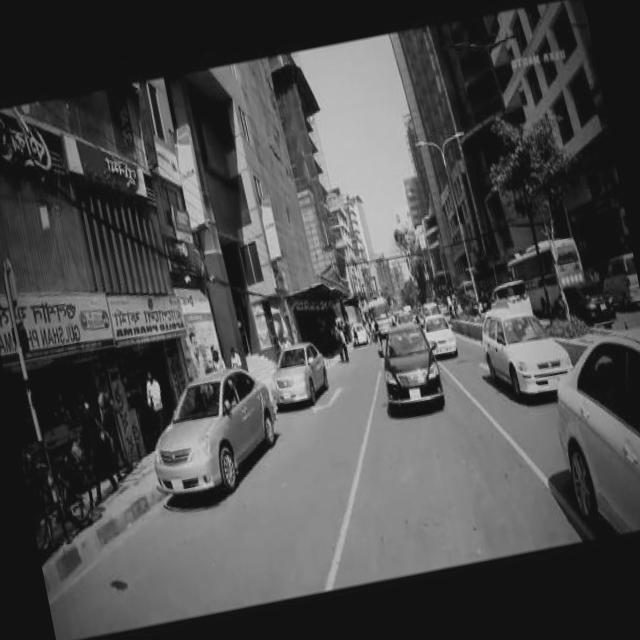bus: (504, 229, 590, 310), (367, 292, 394, 331)
car: (540, 318, 640, 537), (140, 358, 288, 502), (478, 293, 578, 399), (374, 314, 447, 408), (264, 334, 334, 406), (548, 274, 620, 331), (424, 308, 461, 356), (352, 319, 370, 340)
truck: (488, 274, 534, 308)
